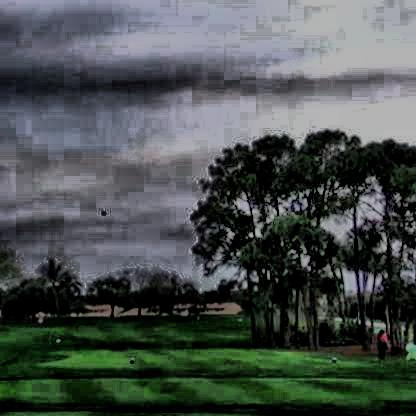golfball: (99, 206, 107, 215)
